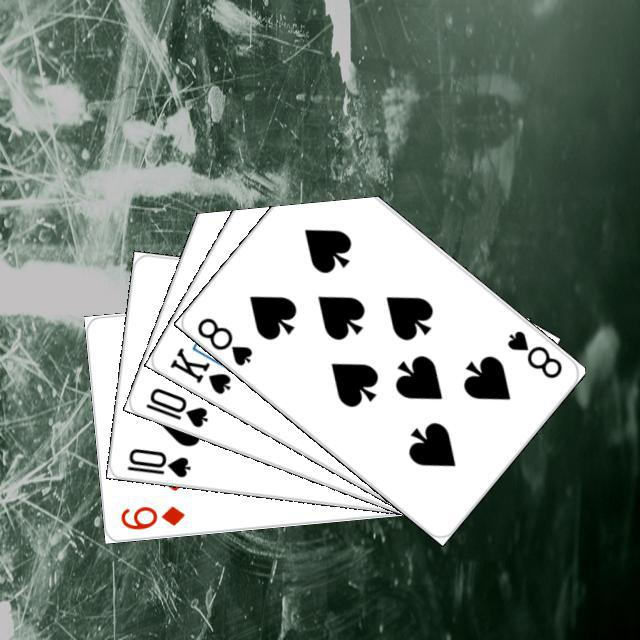10s: (140, 382, 210, 430), (122, 443, 192, 480)
6d: (115, 501, 187, 532)
8s: (192, 312, 254, 368), (502, 325, 564, 381)
Ks: (165, 342, 233, 396)
